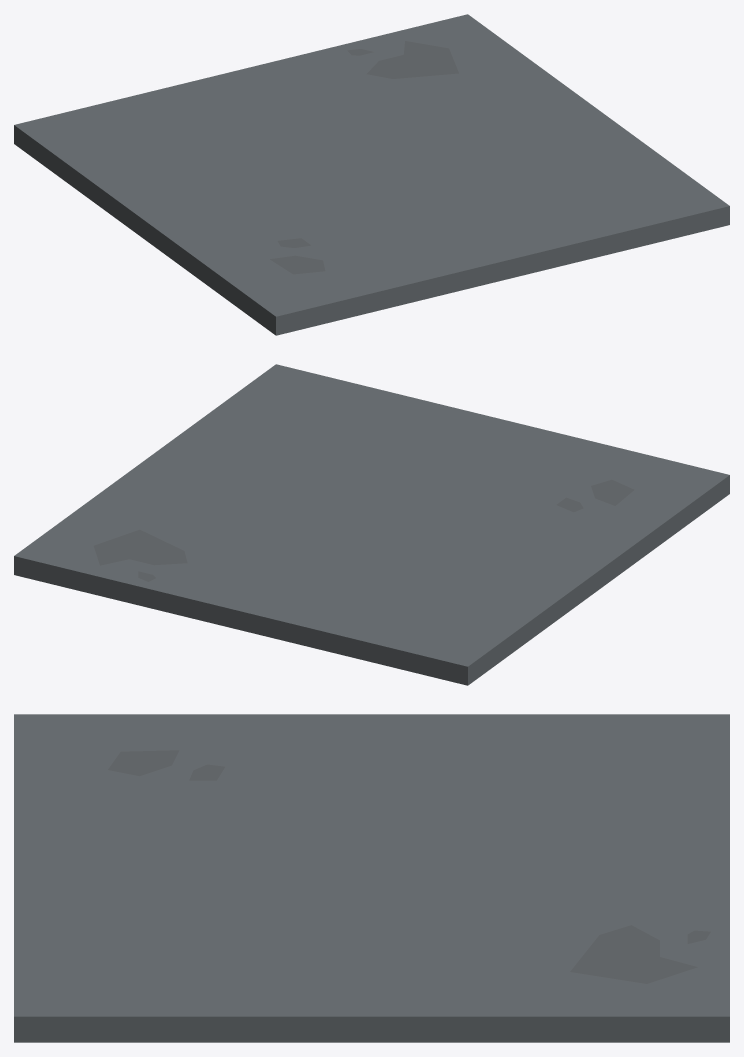
Rendered from Floor_03.fbx.
3 renders of one model, top to bottom at view 1: azimuth 30°, elevation 25°; view 2: azimuth 150°, elevation 25°; view 3: azimuth 270°, elevation 25°, orthographic. The views are drawn at different scales.
Parts seen in each view (by area): view 1: Floor_03; view 2: Floor_03; view 3: Floor_03.
Part boxes in pixels (x1=…): Floor_03: x1=14, y1=14, x2=729, y2=335; Floor_03: x1=14, y1=364, x2=729, y2=685; Floor_03: x1=14, y1=714, x2=729, y2=1042.
Size of the model in its own units: 500 by 20 by 500.
